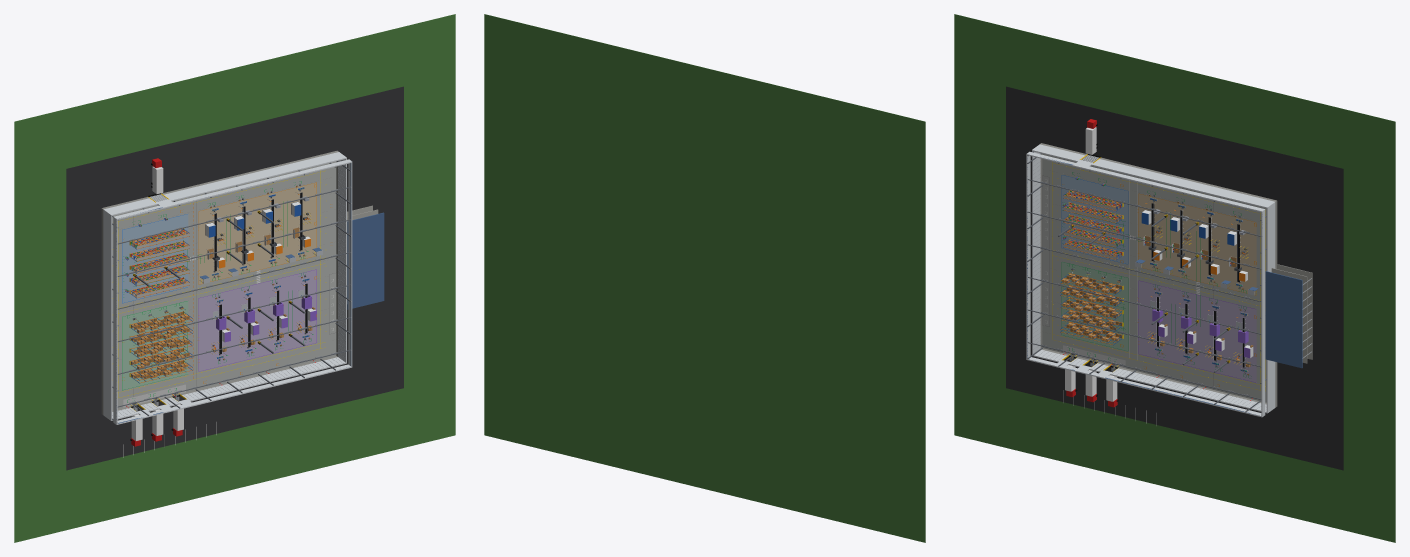
File: factory_static.obj
The picture shows the model from 3 angles, left to right: view 1: azimuth 30°, elevation 25°; view 2: azimuth 150°, elevation 25°; view 3: azimuth 330°, elevation 25°; orthographic projection.
Parts seen in each view (by area): view 1: grass, asphalt, floor, wall_panel, c_b8adc9, c_ccbb9f, wall_top, steel, c_a2c3ad, rack_beam, c_a2b8cc, carton (+12 smaller); view 2: grass; view 3: grass, asphalt, floor, wall_panel, c_b8adc9, c_ccbb9f, wall_top, steel, c_a2c3ad, rack_beam, c_a2b8cc, carton (+14 smaller).
Part boxes in pixels (x1=…): grass: x1=14, y1=14, x2=455, y2=542; asphalt: x1=66, y1=86, x2=403, y2=470; floor: x1=112, y1=161, x2=336, y2=410; wall_panel: x1=103, y1=152, x2=352, y2=424; c_b8adc9: x1=199, y1=269, x2=316, y2=371; c_ccbb9f: x1=199, y1=183, x2=316, y2=284; wall_top: x1=116, y1=163, x2=384, y2=423; steel: x1=112, y1=161, x2=351, y2=423; c_a2c3ad: x1=122, y1=301, x2=188, y2=389; rack_beam: x1=131, y1=229, x2=192, y2=383; c_a2b8cc: x1=122, y1=214, x2=188, y2=302; carton: x1=131, y1=230, x2=312, y2=378; grass: x1=484, y1=14, x2=925, y2=542; grass: x1=954, y1=14, x2=1395, y2=542; asphalt: x1=1006, y1=86, x2=1343, y2=470; floor: x1=1042, y1=153, x2=1266, y2=402; wall_panel: x1=1026, y1=144, x2=1275, y2=417; c_b8adc9: x1=1138, y1=281, x2=1256, y2=382; c_ccbb9f: x1=1138, y1=194, x2=1256, y2=295; wall_top: x1=1027, y1=158, x2=1302, y2=414; steel: x1=1027, y1=151, x2=1266, y2=412; c_a2c3ad: x1=1062, y1=262, x2=1127, y2=350; rack_beam: x1=1061, y1=190, x2=1122, y2=344; c_a2b8cc: x1=1062, y1=175, x2=1127, y2=263; carton: x1=1062, y1=191, x2=1250, y2=374.
Bounding box in the file's own units: 170 × 155 × 10.11.
